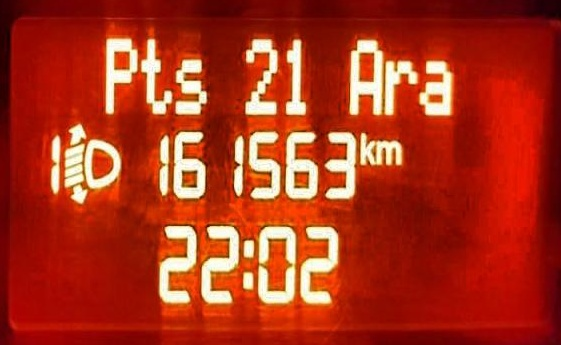0: (257, 219, 298, 312)
1: (282, 35, 311, 129), (46, 120, 63, 210), (228, 121, 245, 203), (153, 125, 168, 207)
2: (299, 220, 342, 306), (155, 218, 194, 310), (241, 29, 278, 124), (201, 219, 235, 308)
3: (323, 123, 358, 203)
5: (247, 126, 282, 204)
6: (173, 125, 212, 199), (284, 124, 321, 202)
X: (101, 29, 140, 117), (139, 30, 175, 119), (347, 31, 382, 118), (420, 54, 456, 126), (174, 53, 209, 118), (382, 52, 415, 115), (237, 229, 256, 297), (375, 131, 404, 173), (356, 128, 376, 168)
